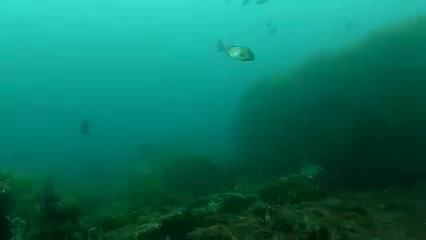smallfish: (213, 37, 258, 64)
